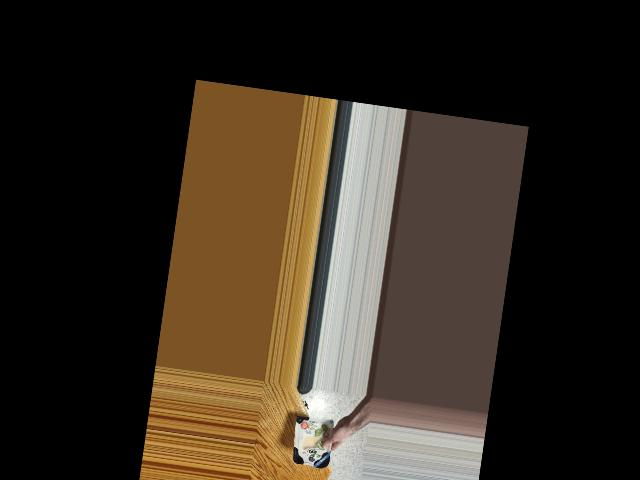cheese: (289, 404, 338, 480)
